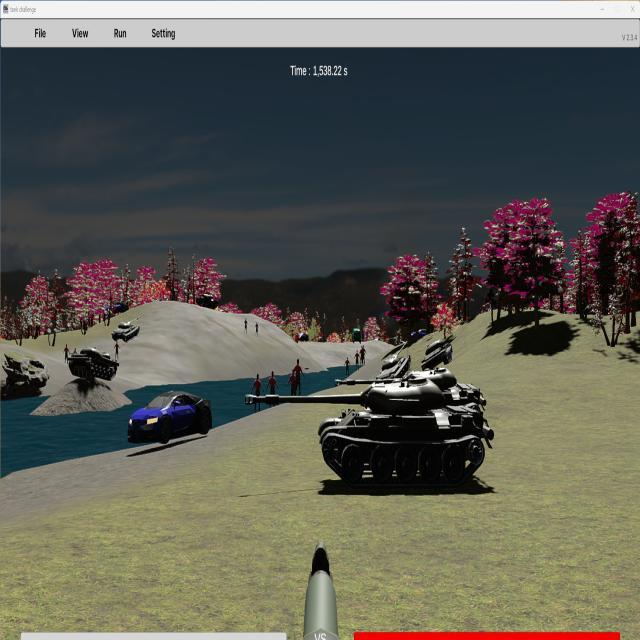Tank: (243, 370, 493, 491), (67, 345, 120, 381), (421, 330, 455, 371), (111, 314, 144, 342)
car: (127, 390, 212, 445)
